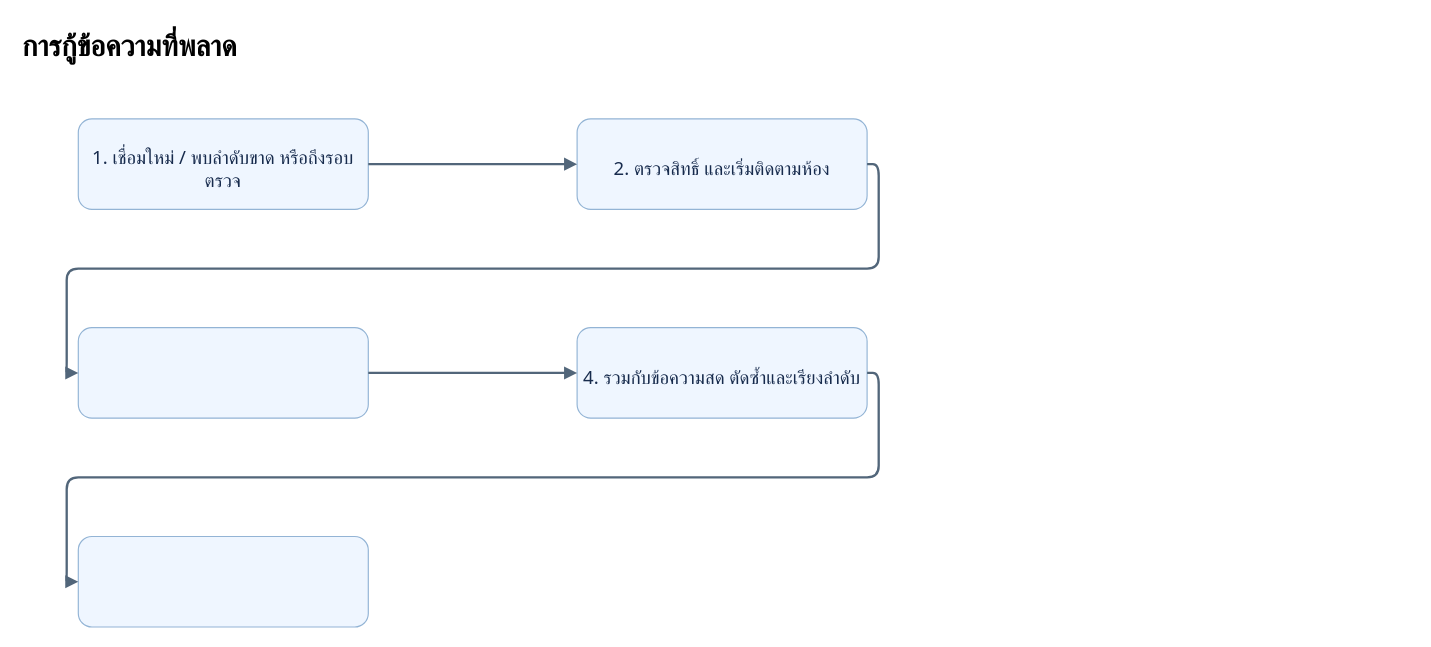
The diagram is 1431 pixels wide and 647 high, and some of its shapes have lost their labels. The centre of each missing label's shape, as x and y in pixels:
"3. ดึงข้อมูลจากฐานข้อมูล ต่อจากจุดล่าสุดที่ได้รับครบ" belongs at pixel 222 372.
"5. ถ้ายังมีลำดับขาด → กลับข้อ 3 ถ้าครบ → จำจุดล่าสุดต่ออุปกรณ์" belongs at pixel 222 581.
